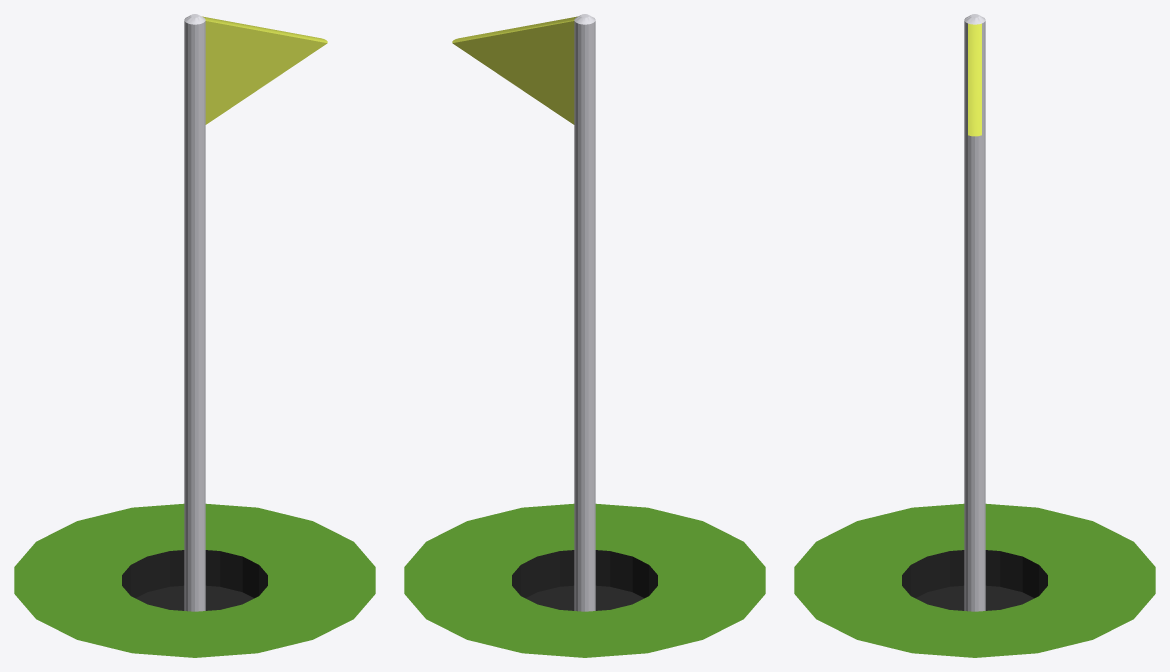
The model's file is Golf EXP.fbx.
The picture shows the model from 3 angles, left to right: view 1: azimuth 30°, elevation 25°; view 2: azimuth 150°, elevation 25°; view 3: azimuth 270°, elevation 25°; orthographic projection.
Parts seen in each view (by area): view 1: Cylinder001, Cylinder002; view 2: Cylinder001, Cylinder002; view 3: Cylinder001, Cylinder002.
Boxes of the visible parts, left/top/right/bottom form: Cylinder001: left=14, top=503, right=375, bottom=657; Cylinder002: left=184, top=14, right=327, bottom=611; Cylinder001: left=404, top=503, right=765, bottom=657; Cylinder002: left=452, top=14, right=595, bottom=611; Cylinder001: left=794, top=503, right=1155, bottom=657; Cylinder002: left=964, top=14, right=985, bottom=611.
Size of the model in its own units: 454 by 819 by 447.
